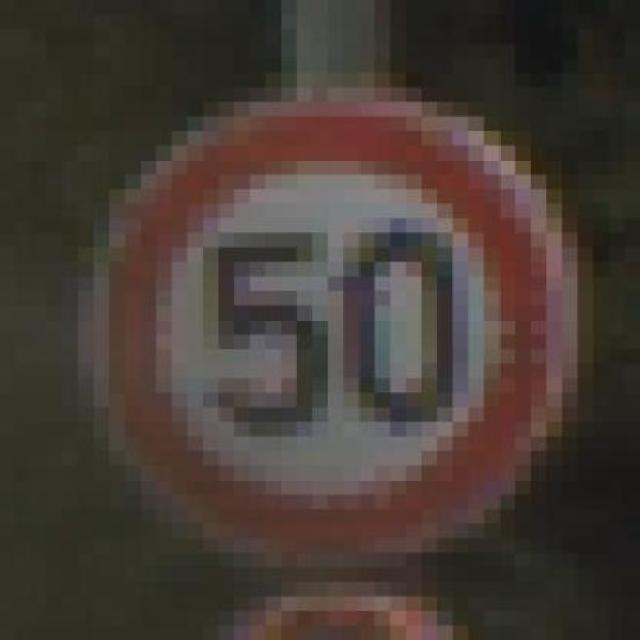forb_speed_over_50: (91, 98, 565, 564)
